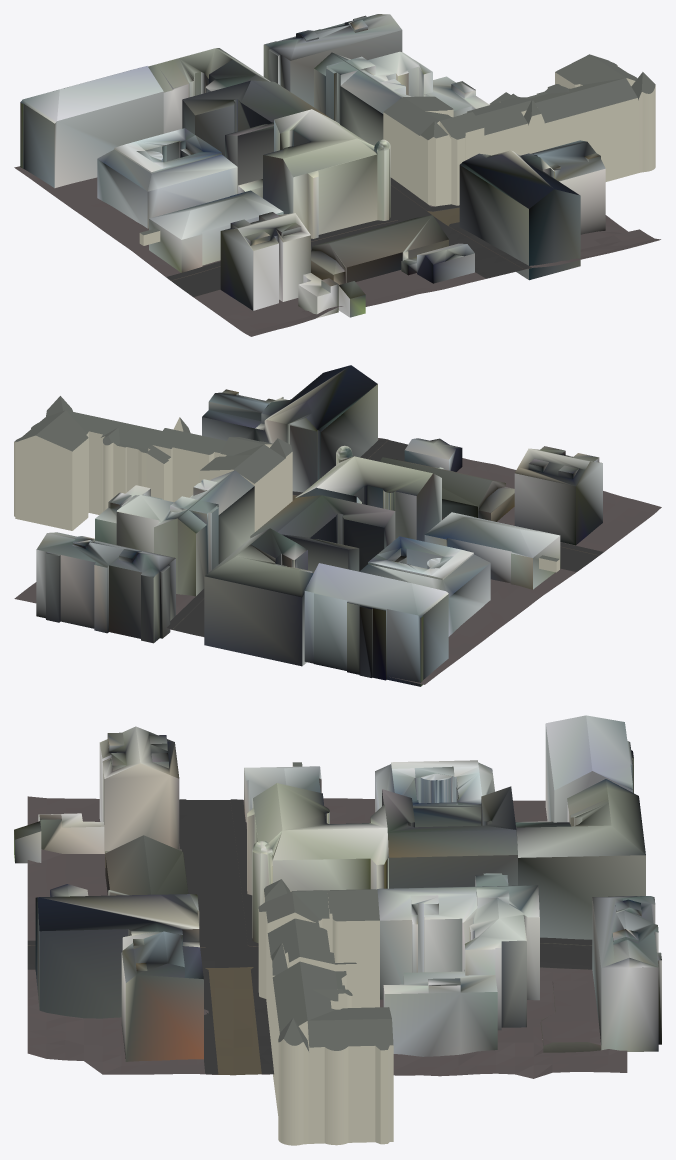
3 renders of one model, top to bottom at view 1: azimuth 30°, elevation 25°; view 2: azimuth 150°, elevation 25°; view 3: azimuth 270°, elevation 25°, orthographic. The views are drawn at different scales.
Visible parts, largest first — view 1: c_p02_m04; view 2: c_p02_m04; view 3: c_p02_m04.
Part boxes in pixels (x1,y1,x2,y2): c_p02_m04: (14, 14, 660, 336); c_p02_m04: (14, 365, 661, 686); c_p02_m04: (14, 715, 661, 1145).
Size of the model in its own units: 159 by 31.78 by 138.
